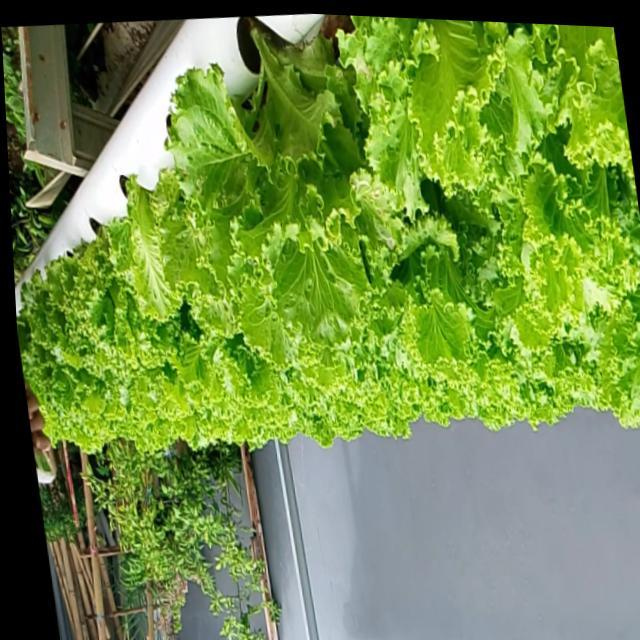Mature: (15, 15, 640, 454), (167, 15, 390, 351), (49, 205, 166, 374)
